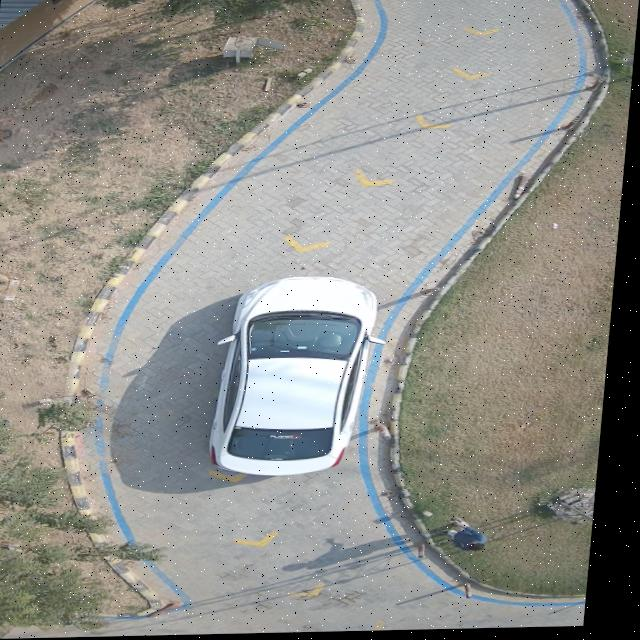car: (213, 279, 381, 480)
